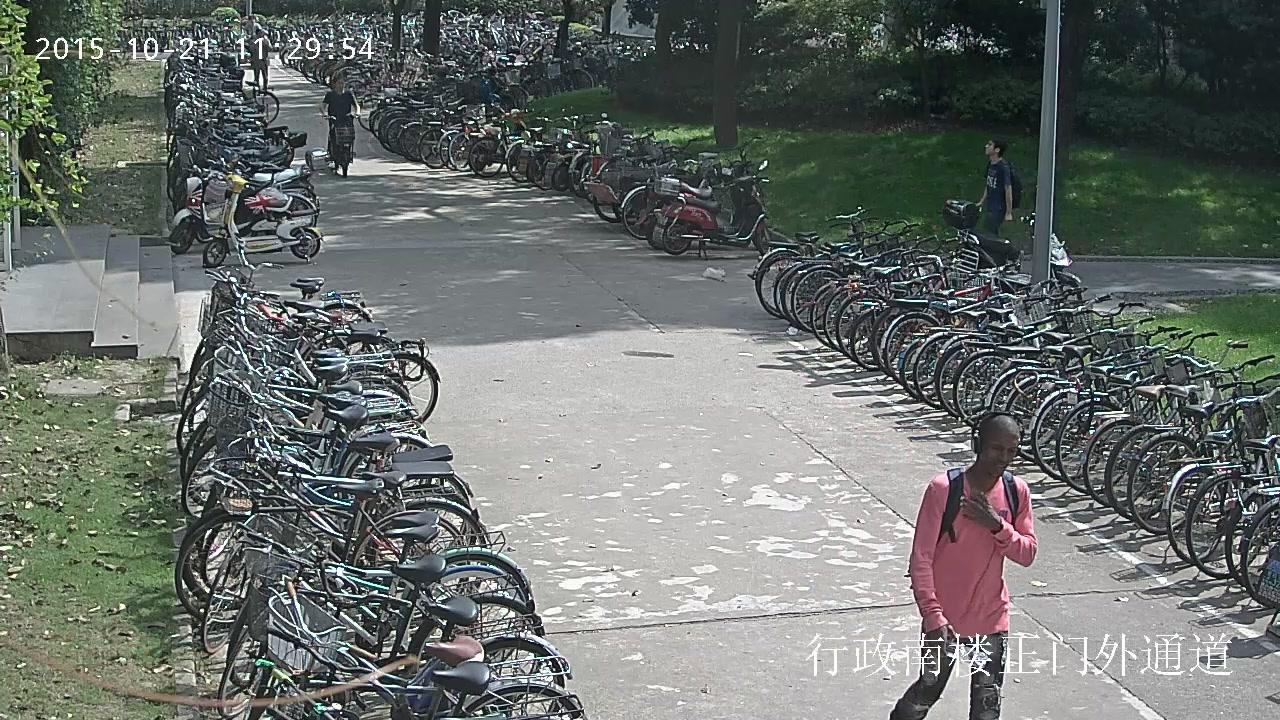face: (979, 429, 1020, 477), (985, 140, 995, 154), (335, 78, 344, 91), (256, 30, 263, 37), (249, 16, 256, 22)
